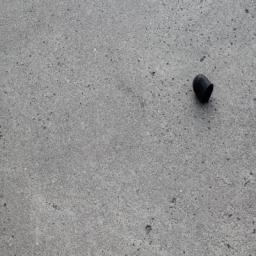FOD: (188, 71, 222, 109)
